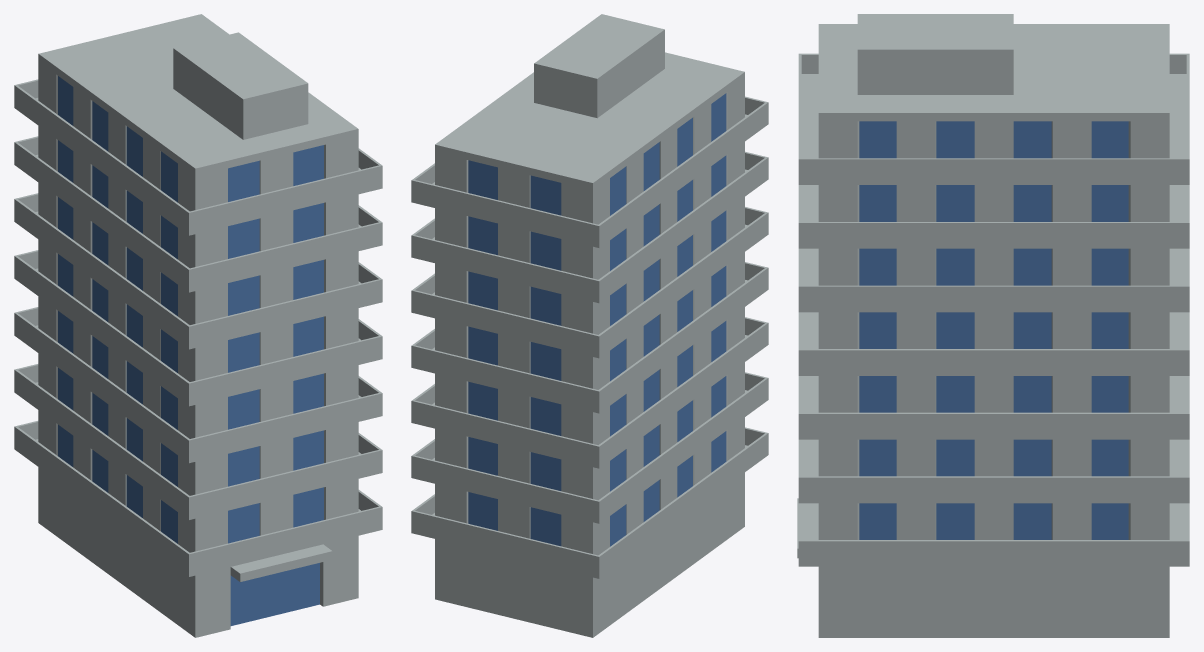
Rendered from bill_004.fbx.
3 views of the same model, side by side, from view 1: azimuth 30°, elevation 25°; view 2: azimuth 150°, elevation 25°; view 3: azimuth 270°, elevation 25° (orthographic). The views are drawn at different scales.
Parts seen in each view (by area): view 1: building.003; view 2: building.003; view 3: building.003.
Boxes of the visible parts, x1,y1,x2,y2 form: building.003: (14, 14, 382, 637); building.003: (411, 14, 768, 637); building.003: (797, 14, 1189, 637).
Size of the model in its own units: 998 by 2510 by 1563.
